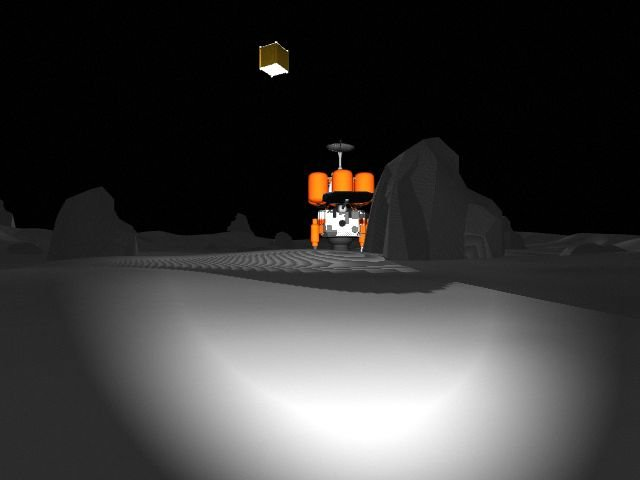cubesat: (255, 37, 292, 84)
